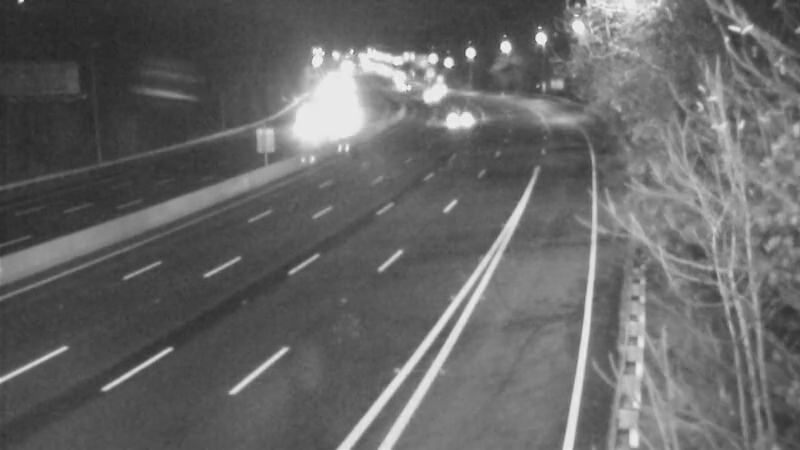vehicle: (381, 64, 431, 114), (404, 72, 454, 122), (429, 97, 479, 147), (282, 105, 332, 155)
